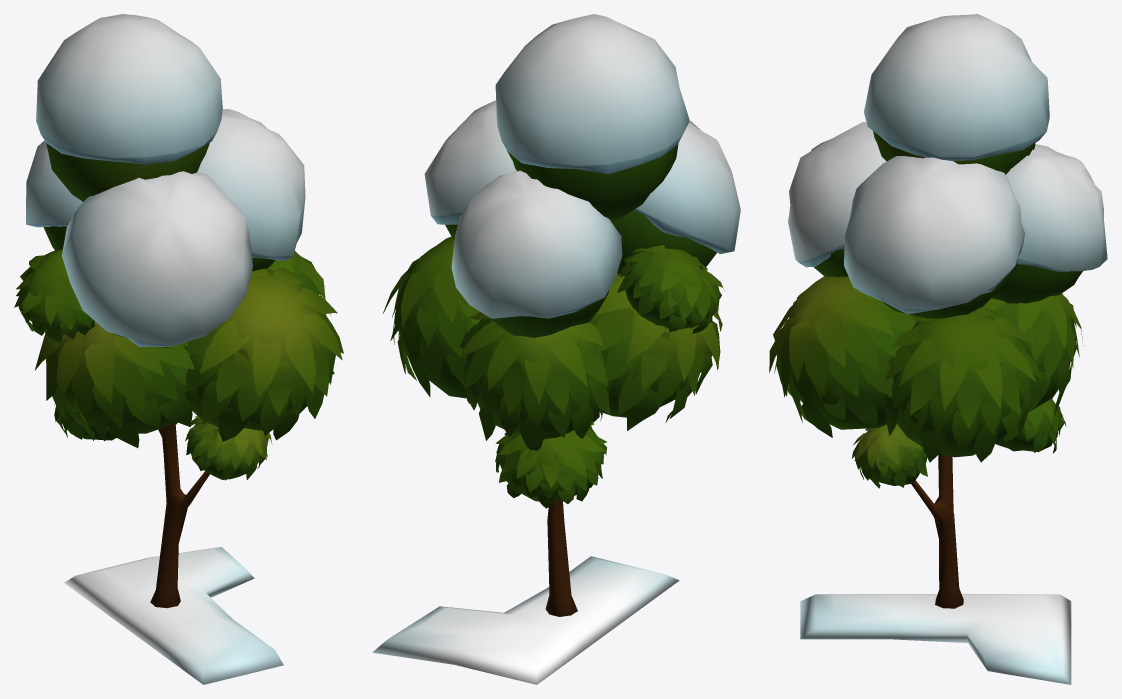
File: SnowyTree1.fbx
The picture shows the model from 3 angles, left to right: view 1: azimuth 30°, elevation 25°; view 2: azimuth 150°, elevation 25°; view 3: azimuth 270°, elevation 25°; orthographic projection. The views are drawn at different scales.
Parts seen in each view (by area): view 1: Sphere.101; view 2: Sphere.101; view 3: Sphere.101.
Boxes of the visible parts, left/top/right/bottom form: Sphere.101: left=14, top=14, right=343, bottom=684; Sphere.101: left=372, top=14, right=740, bottom=684; Sphere.101: left=769, top=14, right=1107, bottom=684.
Size of the model in its own units: 379 by 375 by 722.
